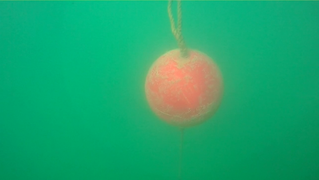buoy: (144, 47, 225, 128)
